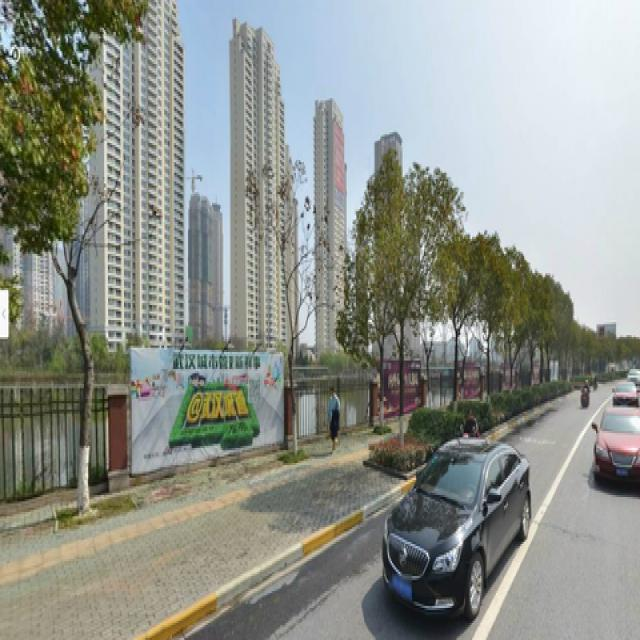cinn: (8, 19, 135, 484), (352, 168, 433, 444)
